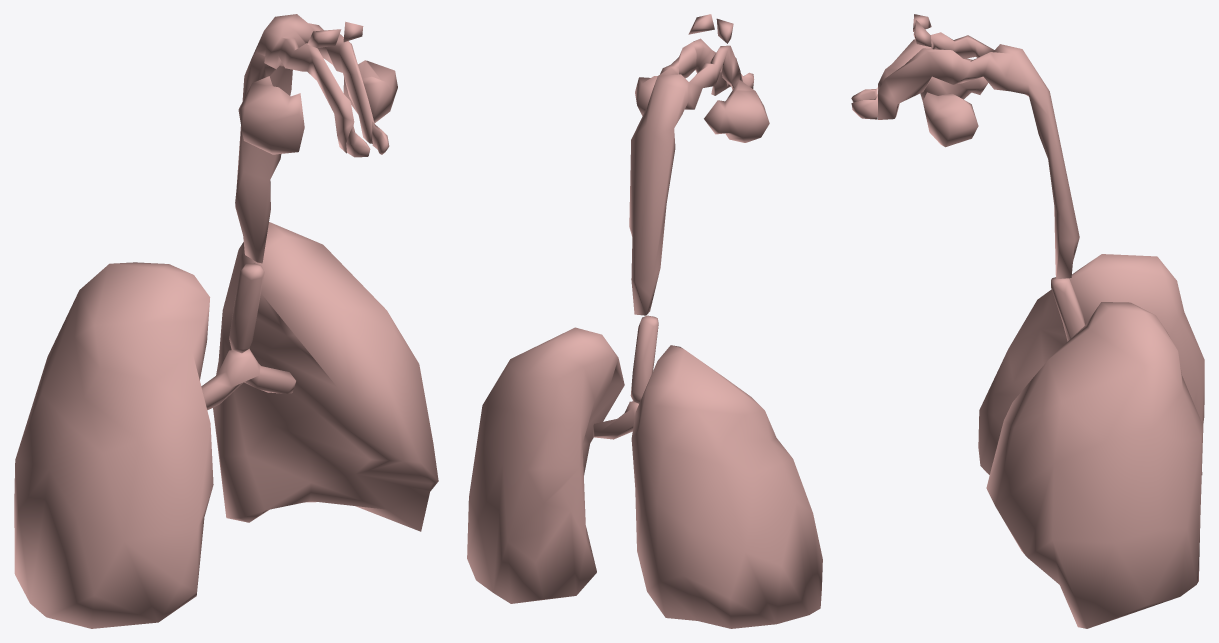
Rendered from pediatric_child_5y_female.respiratory.LOD3.glb.
3 views of the same model, side by side, from view 1: azimuth 30°, elevation 25°; view 2: azimuth 150°, elevation 25°; view 3: azimuth 270°, elevation 25° (orthographic). The views are drawn at different scales.
Parts seen in each view (by area): view 1: PEDIATRIC.CHILD_5Y.FEMALE.RESPIRATORY.LUNG.R, PEDIATRIC.CHILD_5Y.FEMALE.RESPIRATORY.LUNG.L, PEDIATRIC.CHILD_5Y.FEMALE.RESPIRATORY.ET2, PEDIATRIC.CHILD_5Y.FEMALE.RESPIRATORY.BB1, PEDIATRIC.CHILD_5Y.FEMALE.RESPIRATORY.TRACHEA, PEDIATRIC.CHILD_5Y.FEMALE.RESPIRATORY.ET1; view 2: PEDIATRIC.CHILD_5Y.FEMALE.RESPIRATORY.LUNG.R, PEDIATRIC.CHILD_5Y.FEMALE.RESPIRATORY.LUNG.L, PEDIATRIC.CHILD_5Y.FEMALE.RESPIRATORY.ET2, PEDIATRIC.CHILD_5Y.FEMALE.RESPIRATORY.TRACHEA, PEDIATRIC.CHILD_5Y.FEMALE.RESPIRATORY.BB1; view 3: PEDIATRIC.CHILD_5Y.FEMALE.RESPIRATORY.LUNG.L, PEDIATRIC.CHILD_5Y.FEMALE.RESPIRATORY.ET2, PEDIATRIC.CHILD_5Y.FEMALE.RESPIRATORY.LUNG.R, PEDIATRIC.CHILD_5Y.FEMALE.RESPIRATORY.TRACHEA, PEDIATRIC.CHILD_5Y.FEMALE.RESPIRATORY.ET1.
Part boxes in pixels (x1,y1,x2,y2): PEDIATRIC.CHILD_5Y.FEMALE.RESPIRATORY.LUNG.R: (14, 262, 213, 628); PEDIATRIC.CHILD_5Y.FEMALE.RESPIRATORY.LUNG.L: (213, 222, 438, 531); PEDIATRIC.CHILD_5Y.FEMALE.RESPIRATORY.ET2: (235, 14, 397, 263); PEDIATRIC.CHILD_5Y.FEMALE.RESPIRATORY.BB1: (201, 349, 295, 410); PEDIATRIC.CHILD_5Y.FEMALE.RESPIRATORY.TRACHEA: (229, 263, 264, 353); PEDIATRIC.CHILD_5Y.FEMALE.RESPIRATORY.ET1: (346, 121, 389, 157); PEDIATRIC.CHILD_5Y.FEMALE.RESPIRATORY.LUNG.R: (631, 345, 822, 628); PEDIATRIC.CHILD_5Y.FEMALE.RESPIRATORY.LUNG.L: (467, 327, 624, 603); PEDIATRIC.CHILD_5Y.FEMALE.RESPIRATORY.ET2: (629, 14, 769, 315); PEDIATRIC.CHILD_5Y.FEMALE.RESPIRATORY.TRACHEA: (630, 315, 658, 403); PEDIATRIC.CHILD_5Y.FEMALE.RESPIRATORY.BB1: (593, 401, 638, 439); PEDIATRIC.CHILD_5Y.FEMALE.RESPIRATORY.LUNG.L: (986, 302, 1203, 628); PEDIATRIC.CHILD_5Y.FEMALE.RESPIRATORY.ET2: (878, 14, 1079, 279); PEDIATRIC.CHILD_5Y.FEMALE.RESPIRATORY.LUNG.R: (978, 254, 1204, 474); PEDIATRIC.CHILD_5Y.FEMALE.RESPIRATORY.TRACHEA: (1051, 277, 1085, 341); PEDIATRIC.CHILD_5Y.FEMALE.RESPIRATORY.ET1: (851, 87, 877, 119).
Bounding box in the file's own units: 0.1716 × 0.2597 × 0.1552.
